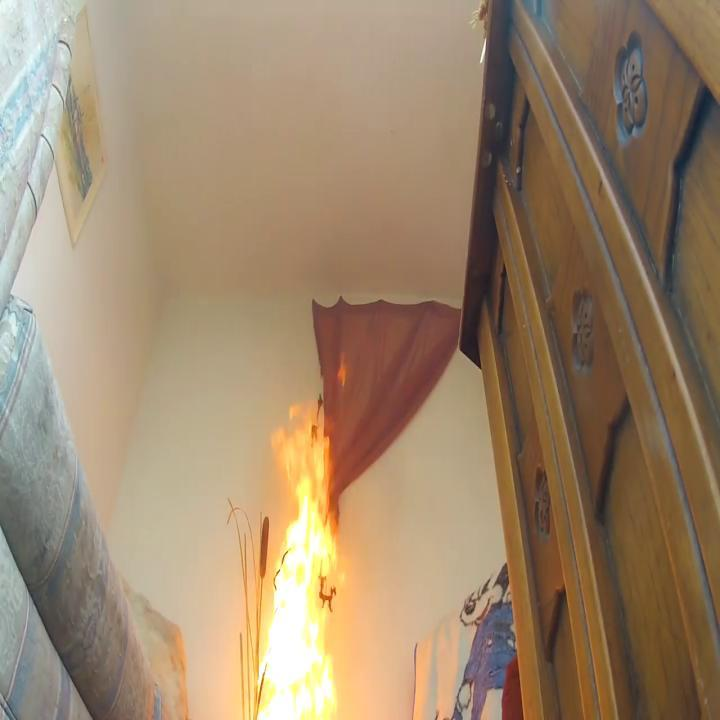fire: (250, 399, 345, 720)
